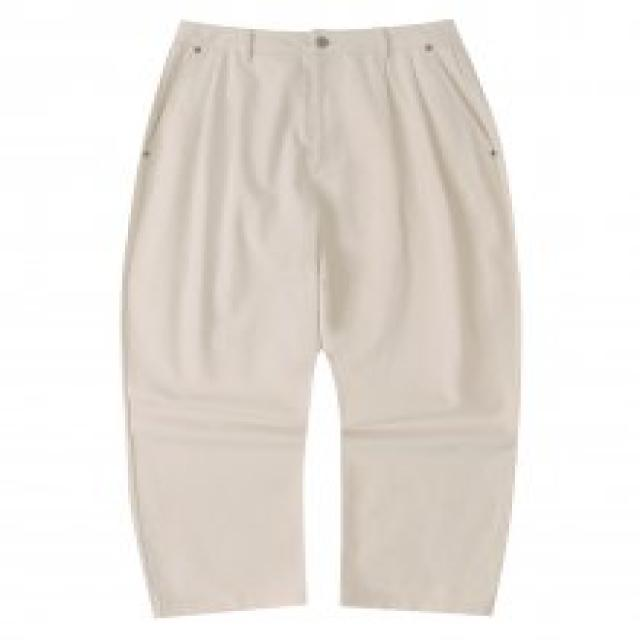long-pants: (121, 19, 520, 620)
